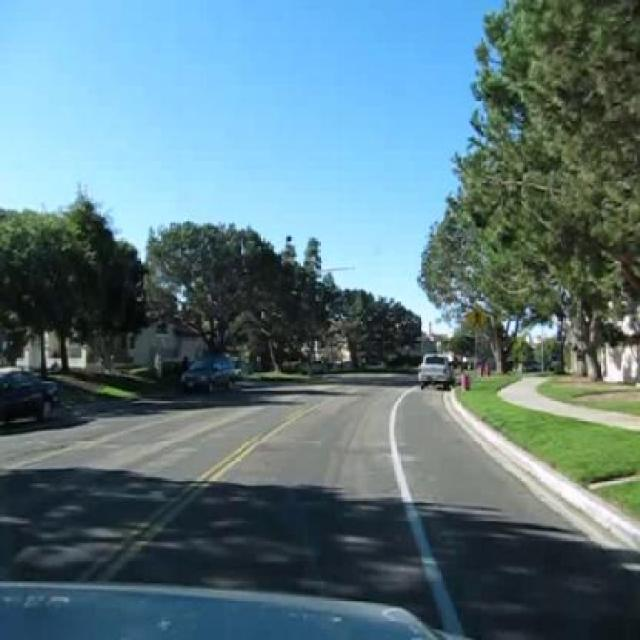pedestrianCrossing: (464, 303, 488, 331)
